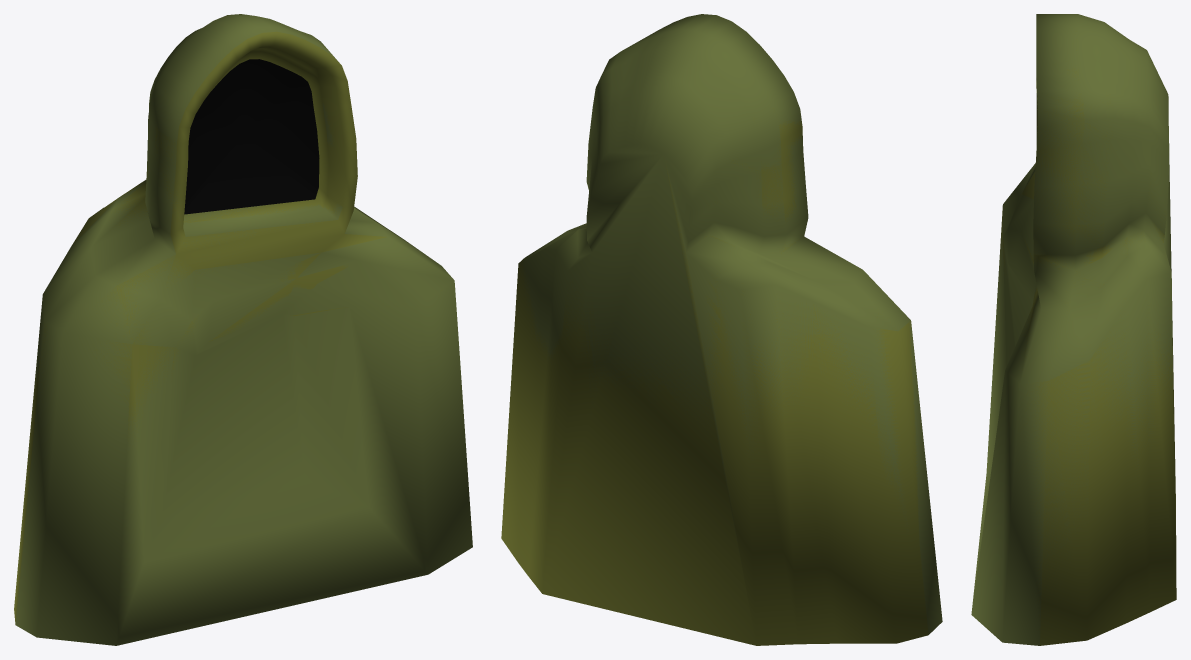
File: kapsonlueleman (1).fbx
The picture shows the model from 3 angles, left to right: view 1: azimuth 30°, elevation 25°; view 2: azimuth 150°, elevation 25°; view 3: azimuth 270°, elevation 25°; orthographic projection. The views are drawn at different scales.
Visible parts, largest first — view 1: Circle, Circle.001; view 2: Circle.001, Circle; view 3: Circle, Circle.001.
Boxes of the visible parts, bbox=[...] form: Circle: bbox=[15, 14, 472, 645]; Circle.001: bbox=[14, 31, 441, 624]; Circle.001: bbox=[501, 108, 928, 645]; Circle: bbox=[518, 14, 942, 634]; Circle: bbox=[971, 14, 1173, 645]; Circle.001: bbox=[999, 39, 1176, 645].
Size of the model in its own units: 496 by 610 by 212.
